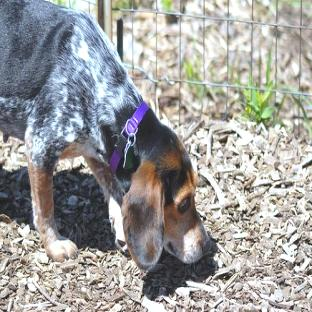Animal: (1, 0, 213, 269)
